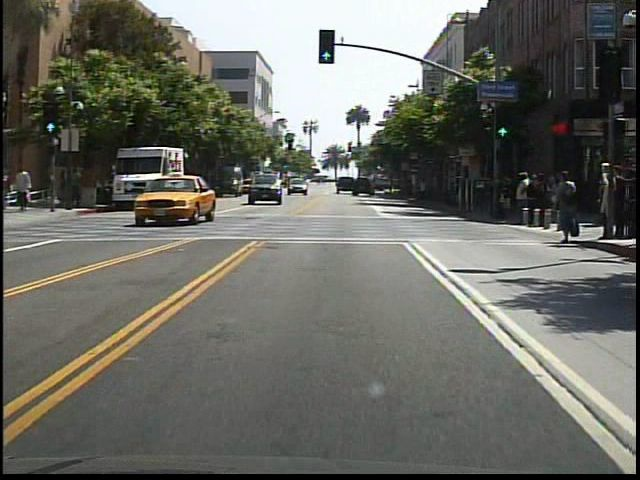person: (551, 167, 581, 242), (513, 166, 531, 226), (16, 164, 37, 214), (71, 167, 87, 210), (4, 172, 16, 213), (59, 168, 71, 205)
